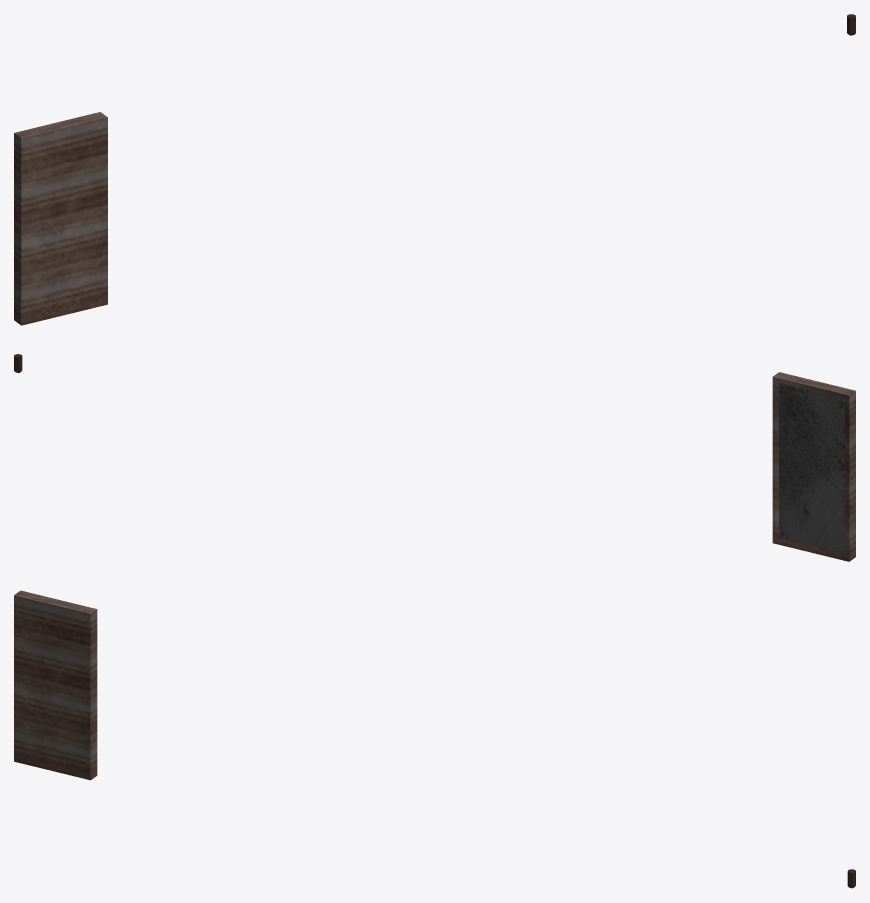
The model's file is Mirror.fbx.
3 renders of one model, top to bottom at view 1: azimuth 30°, elevation 25°; view 2: azimuth 150°, elevation 25°; view 3: azimuth 330°, elevation 25°, orthographic. The views are drawn at different scales.
Visible parts, largest first — view 1: polySurface54; view 2: polySurface53, polySurface54; view 3: polySurface54.
Part boxes in pixels (x1,y1,x2,y2): polySurface54: [14, 112, 107, 325]; polySurface53: [779, 383, 844, 553]; polySurface54: [772, 372, 855, 561]; polySurface54: [14, 590, 97, 780].
Bounding box in the file's own units: 441 × 88.5 × 50.57.
Materials: 2 (2 with a texture image).
